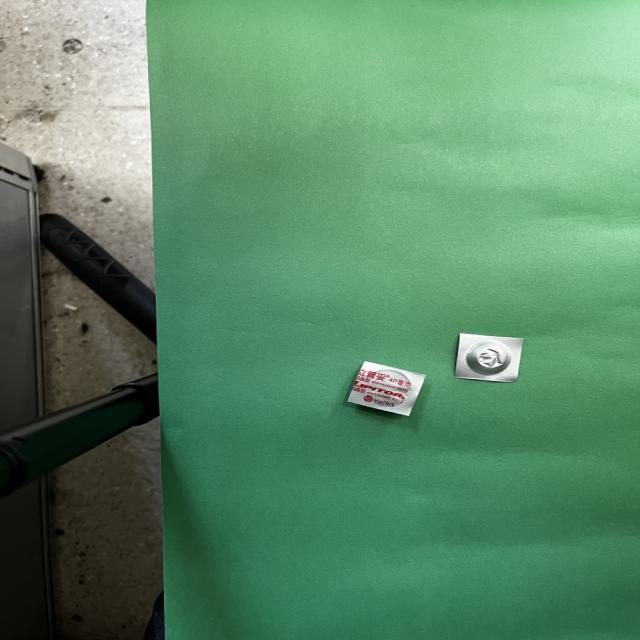Other Objects: (348, 362, 425, 415), (455, 334, 523, 381)
